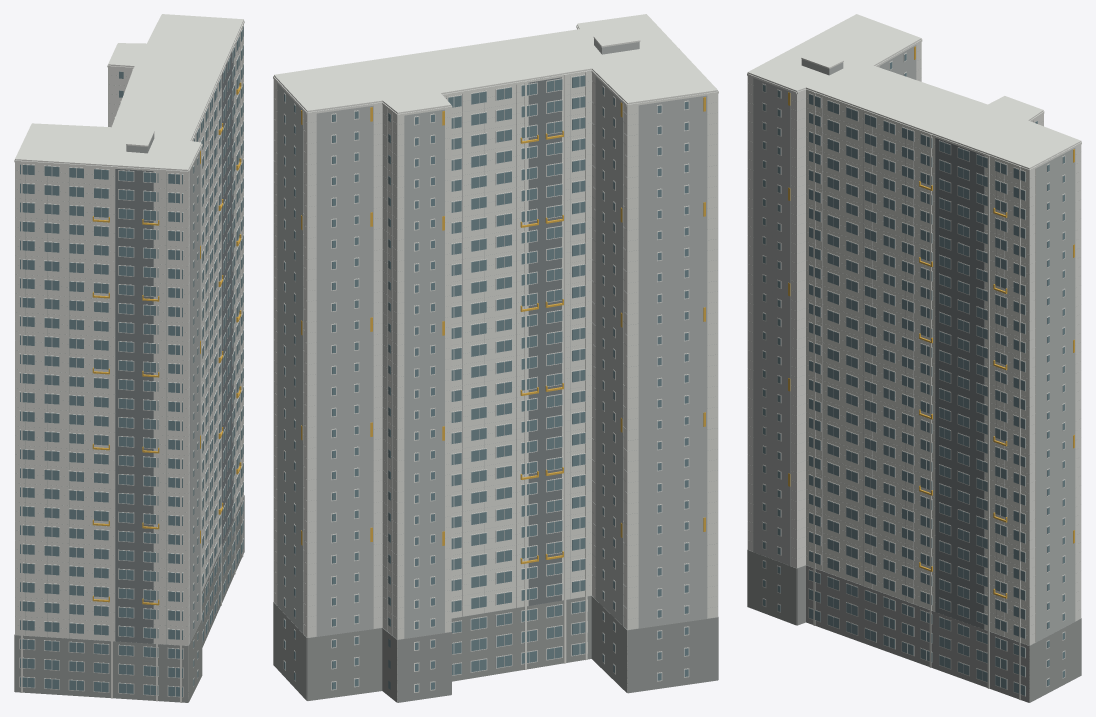
File: bespoke-godeok-central-ipark-512.glb
3 views of the same model, side by side, from view 1: azimuth 30°, elevation 25°; view 2: azimuth 150°, elevation 25°; view 3: azimuth 270°, elevation 25° (orthographic). The views are drawn at different scales.
Parts seen in each view (by area): view 1: CentralIpark512_editable_CentralIpark512_broad_white_facade_, CentralIpark512_editable_CentralIpark512_turquoise_balcony_g, CentralIpark512_editable_CentralIpark512_charcoal_service_pa, CentralIpark512_editable_CentralIpark512_light_grey_solid_wa, CentralIpark512_editable_CentralIpark512_grey_stone_base, CentralIpark512_editable_CentralIpark512_muted_golden_balcon; view 2: CentralIpark512_editable_CentralIpark512_broad_white_facade_, CentralIpark512_editable_CentralIpark512_light_grey_solid_wa, CentralIpark512_editable_CentralIpark512_turquoise_balcony_g, CentralIpark512_editable_CentralIpark512_grey_stone_base, CentralIpark512_editable_CentralIpark512_charcoal_service_pa, CentralIpark512_editable_CentralIpark512_muted_golden_balcon; view 3: CentralIpark512_editable_CentralIpark512_broad_white_facade_, CentralIpark512_editable_CentralIpark512_turquoise_balcony_g, CentralIpark512_editable_CentralIpark512_light_grey_solid_wa, CentralIpark512_editable_CentralIpark512_charcoal_service_pa, CentralIpark512_editable_CentralIpark512_grey_stone_base, CentralIpark512_editable_CentralIpark512_muted_golden_balcon.
Part boxes in pixels (x1=…): CentralIpark512_editable_CentralIpark512_broad_white_facade_: x1=14, y1=14, x2=244, y2=702; CentralIpark512_editable_CentralIpark512_turquoise_balcony_g: x1=20, y1=26, x2=243, y2=696; CentralIpark512_editable_CentralIpark512_charcoal_service_pa: x1=115, y1=48, x2=233, y2=643; CentralIpark512_editable_CentralIpark512_light_grey_solid_wa: x1=15, y1=33, x2=243, y2=645; CentralIpark512_editable_CentralIpark512_grey_stone_base: x1=14, y1=495, x2=244, y2=702; CentralIpark512_editable_CentralIpark512_muted_golden_balcon: x1=92, y1=82, x2=241, y2=605; CentralIpark512_editable_CentralIpark512_broad_white_facade_: x1=273, y1=14, x2=718, y2=701; CentralIpark512_editable_CentralIpark512_light_grey_solid_wa: x1=274, y1=39, x2=717, y2=639; CentralIpark512_editable_CentralIpark512_turquoise_balcony_g: x1=284, y1=75, x2=688, y2=692; CentralIpark512_editable_CentralIpark512_grey_stone_base: x1=273, y1=595, x2=718, y2=702; CentralIpark512_editable_CentralIpark512_charcoal_service_pa: x1=528, y1=76, x2=561, y2=605; CentralIpark512_editable_CentralIpark512_muted_golden_balcon: x1=301, y1=97, x2=705, y2=564; CentralIpark512_editable_CentralIpark512_broad_white_facade_: x1=747, y1=14, x2=1081, y2=702; CentralIpark512_editable_CentralIpark512_turquoise_balcony_g: x1=763, y1=54, x2=1064, y2=695; CentralIpark512_editable_CentralIpark512_light_grey_solid_wa: x1=748, y1=43, x2=1080, y2=644; CentralIpark512_editable_CentralIpark512_charcoal_service_pa: x1=935, y1=138, x2=984, y2=629; CentralIpark512_editable_CentralIpark512_grey_stone_base: x1=747, y1=549, x2=1081, y2=702; CentralIpark512_editable_CentralIpark512_muted_golden_balcon: x1=788, y1=46, x2=1074, y2=598.
Bounding box in the file's own units: 50.59 × 82.7 × 46.28.
